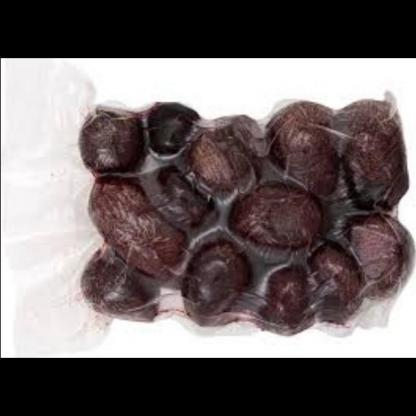beet: (66, 88, 412, 338)
